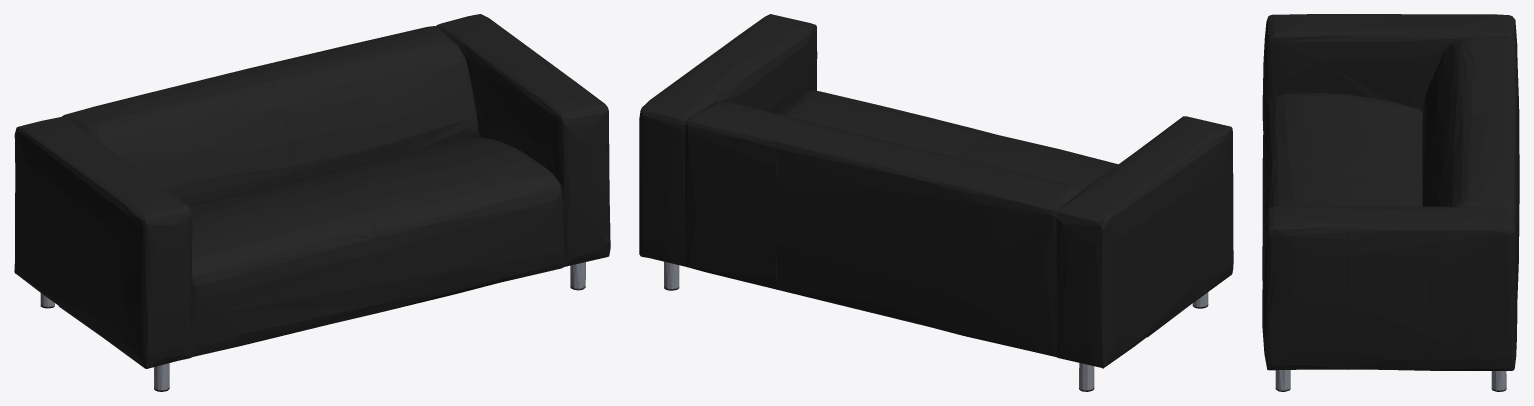
3 views of the same model, side by side, from view 1: azimuth 30°, elevation 25°; view 2: azimuth 150°, elevation 25°; view 3: azimuth 270°, elevation 25° (orthographic). The views are drawn at different scales.
Visible parts, largest first — view 1: ProcessedGeometry; view 2: ProcessedGeometry; view 3: ProcessedGeometry.
Part boxes in pixels (x1=…): ProcessedGeometry: x1=14, y1=14, x2=610, y2=391; ProcessedGeometry: x1=639, y1=14, x2=1233, y2=391; ProcessedGeometry: x1=1262, y1=14, x2=1519, y2=391.
Size of the model in its own units: 1.77 by 0.66 by 0.88.
Materials: 1 (1 with a texture image).
